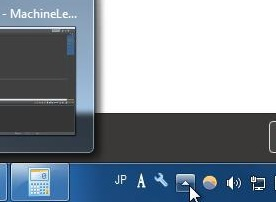cursor: (188, 184, 201, 202)
